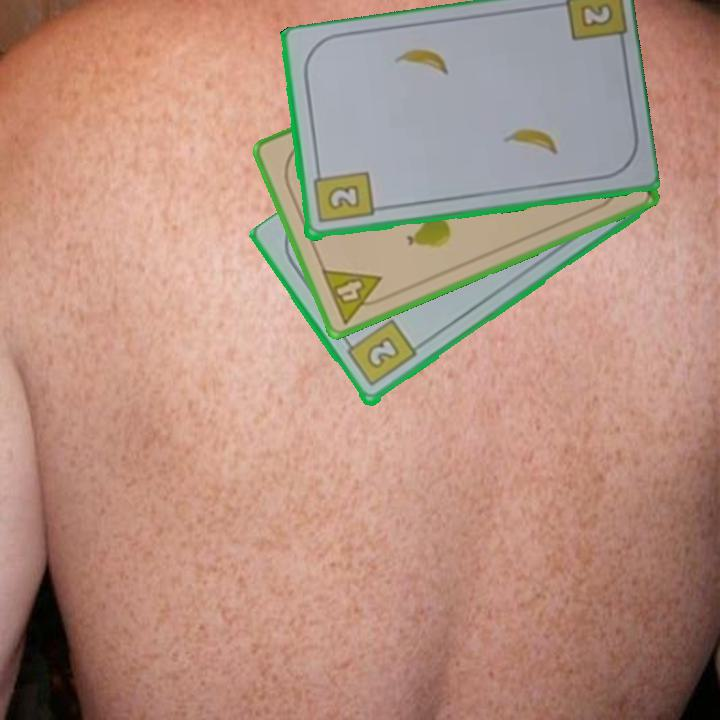2b: (340, 316, 420, 390), (309, 165, 376, 227), (580, 3, 613, 28)
4p: (317, 265, 392, 327)
